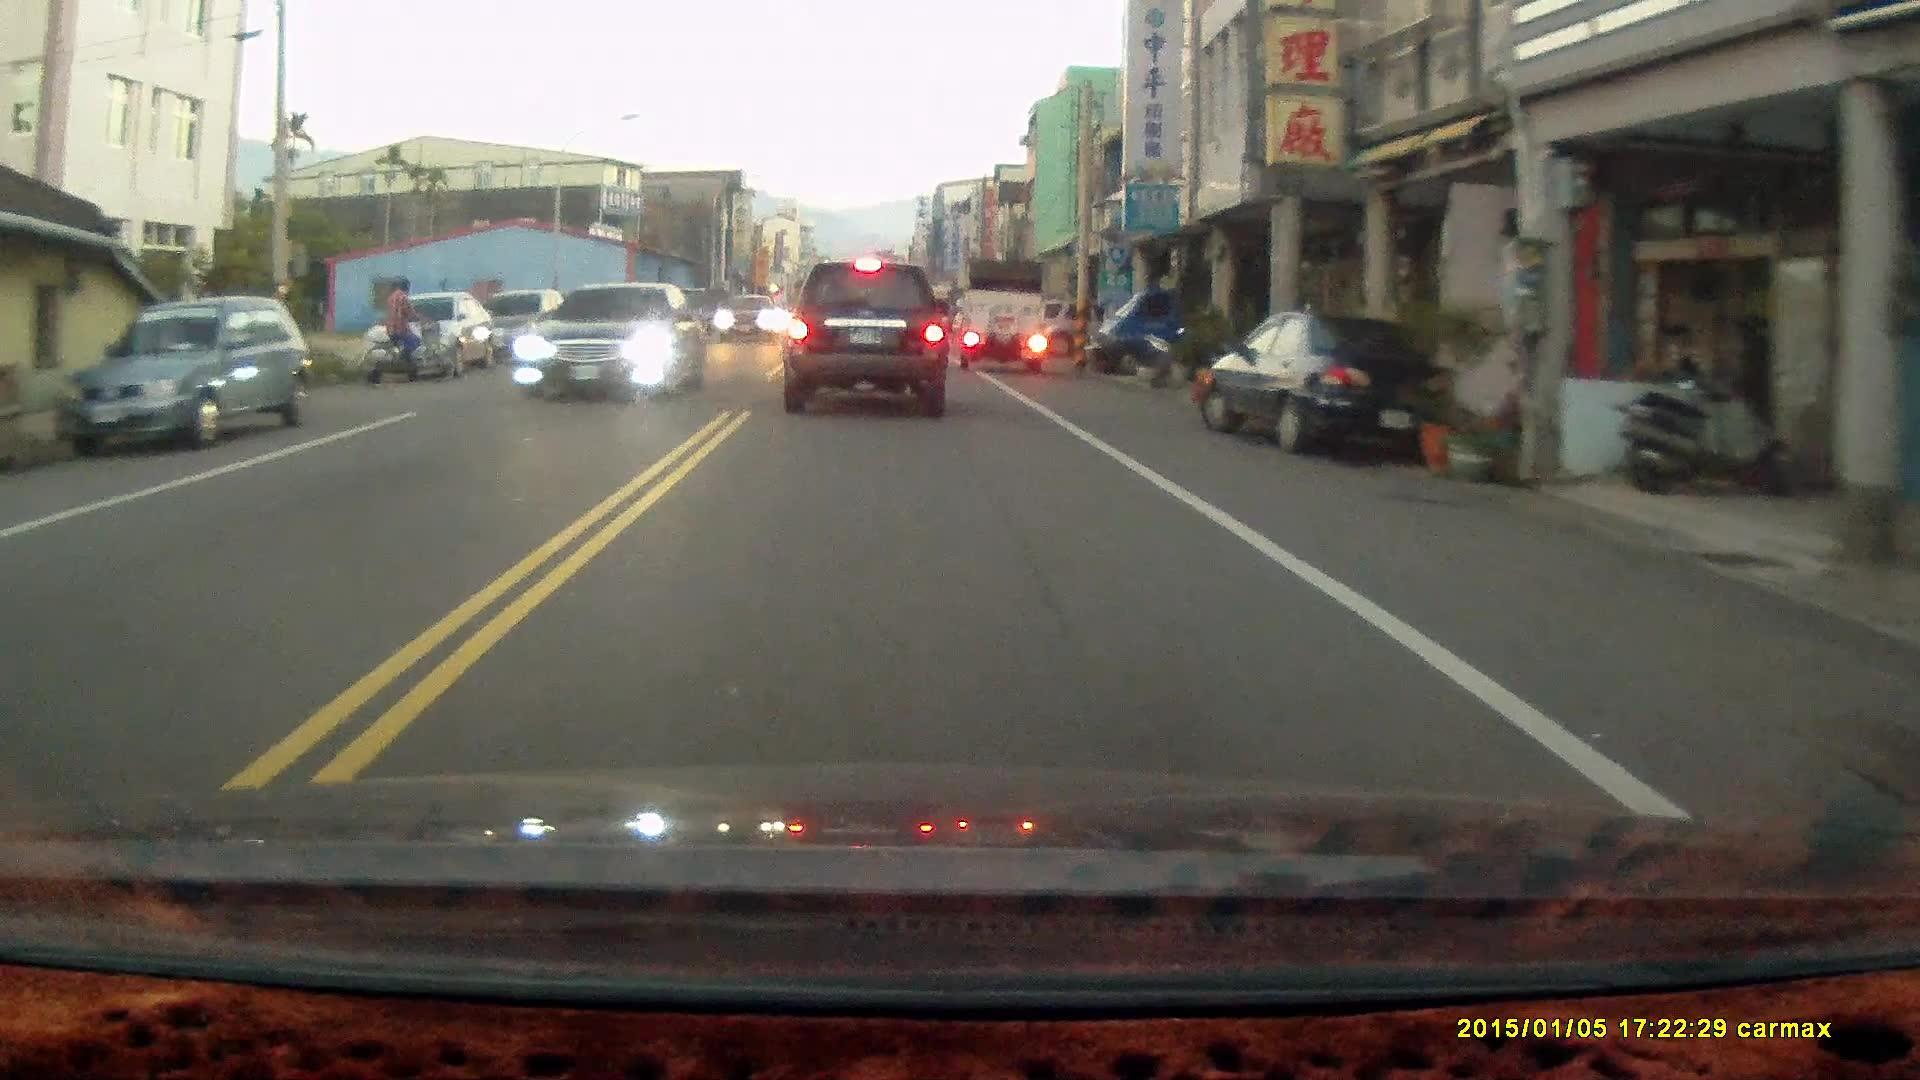rider: (354, 276, 459, 386)
vehicle: (49, 295, 304, 459), (1201, 313, 1452, 460), (786, 266, 953, 424), (512, 284, 708, 410), (1086, 276, 1231, 381), (360, 298, 505, 389), (955, 258, 1048, 374), (474, 291, 569, 365), (719, 301, 787, 348)
